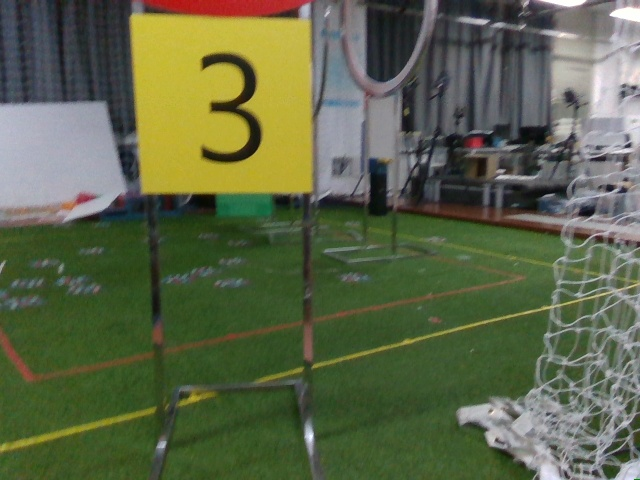target: (135, 20, 317, 199)
